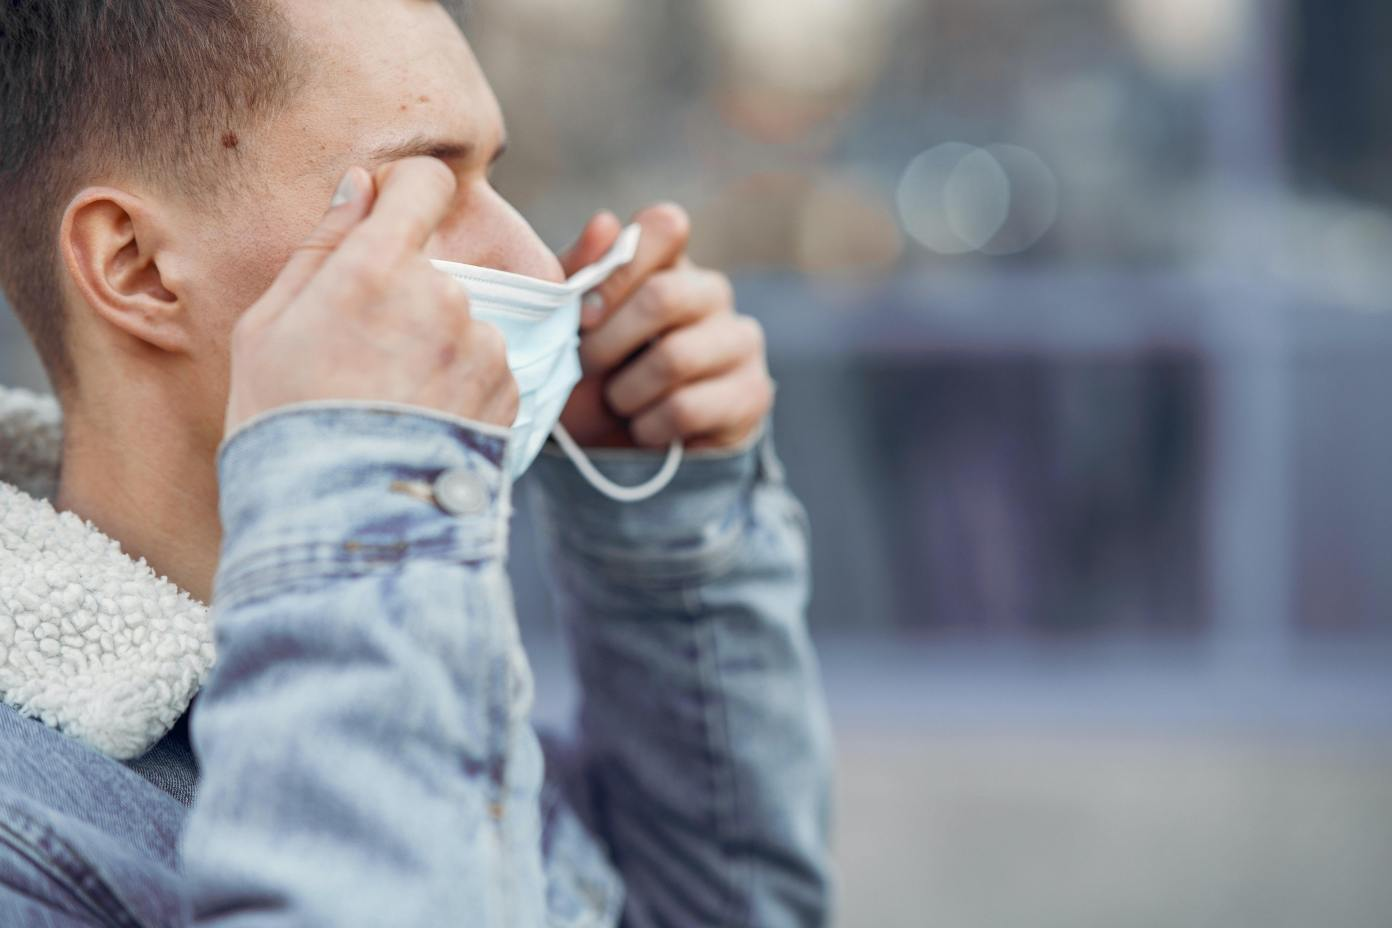with_mask: (117, 21, 604, 570)
